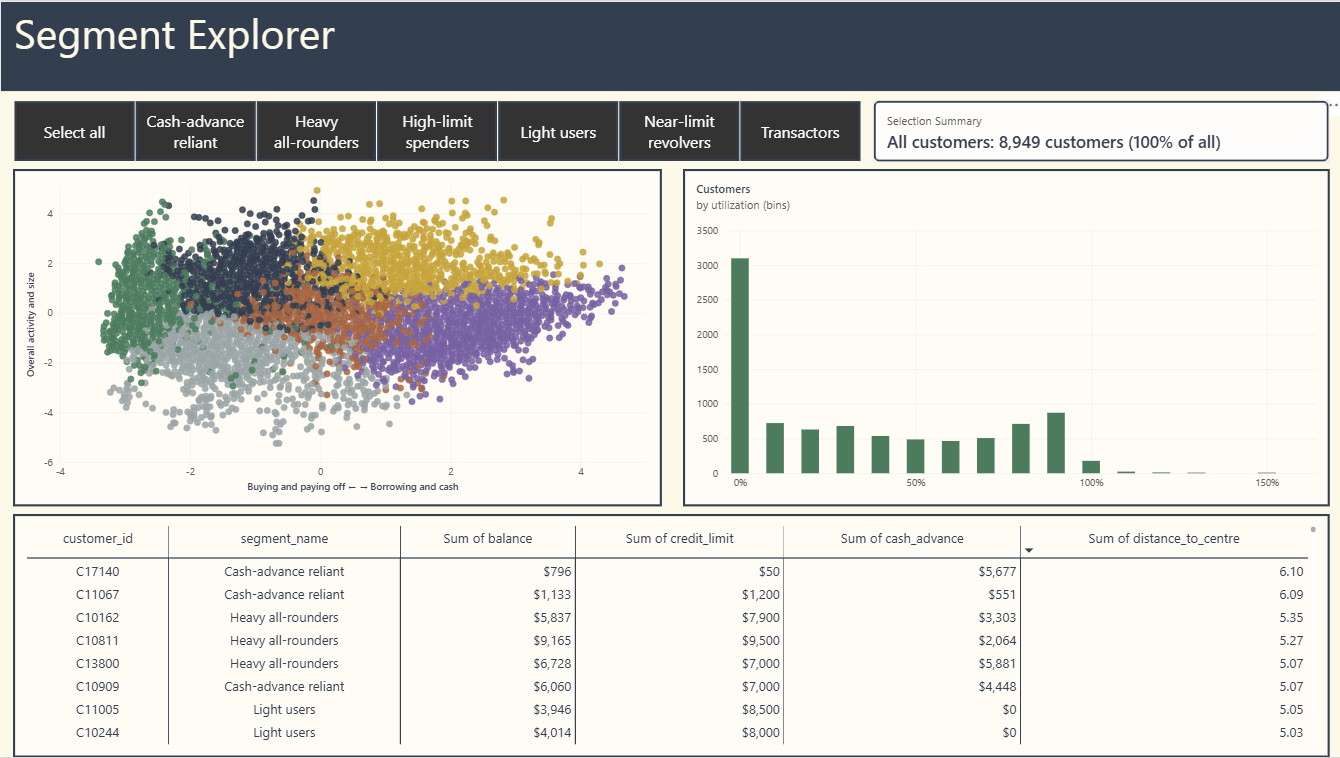

The page's visual inventory and layout, read from the dashboard file:
{"tool":"powerbi","page":{"name":"Segment Explorer","canvas":[1920,1080],"ordinal":2},"visuals":[{"type":"scatterChart","fields":{"Category":["customers.customer_id"],"X":["Avg(customers.pca_1)"],"Y":["Avg(customers.pca_2)"]},"box":[18.8,240.2,927.1,481.7],"z":0},{"type":"textbox","title":"Segment explorer","box":[0,0,1920,130],"z":1000},{"type":"slicer","fields":{"Values":["segments.segment_name"]},"box":[0,141.1,1247.6,89.2],"z":2000},{"type":"cardVisual","fields":{"Data":["_Measures.Selection Summary"]},"box":[1247.6,141.1,652.4,89.2],"z":3000},{"type":"clusteredColumnChart","fields":{"Category":["customers.utilization (bins)"],"Y":["_Measures.Customers"]},"box":[975.4,240.2,924.4,481.7],"z":4000},{"type":"tableEx","fields":{"Values":["customers.customer_id","segments.segment_name","Sum(customers.balance)","Sum(customers.credit_limit)","Sum(customers.cash_advance)","Sum(customers.distance_to_centre)"]},"box":[18.8,732.6,1881.1,347.5],"z":5000}]}

Visuals, with their boxes in screenshot pixels (x1, y1, x2, y2), scaled from the page's 1920x1080 canvas onto the 1340x758 screenshot:
scatterChart - customers.customer_id x Avg(customers.pca_1): locate(13, 169, 660, 507)
"Segment explorer" textbox: locate(0, 0, 1339, 91)
slicer - segments.segment_name: locate(0, 99, 871, 162)
cardVisual - _Measures.Selection Summary: locate(871, 99, 1326, 162)
clusteredColumnChart - customers.utilization (bins) x _Measures.Customers: locate(681, 169, 1326, 507)
tableEx - customers.customer_id x segments.segment_name: locate(13, 514, 1326, 757)
